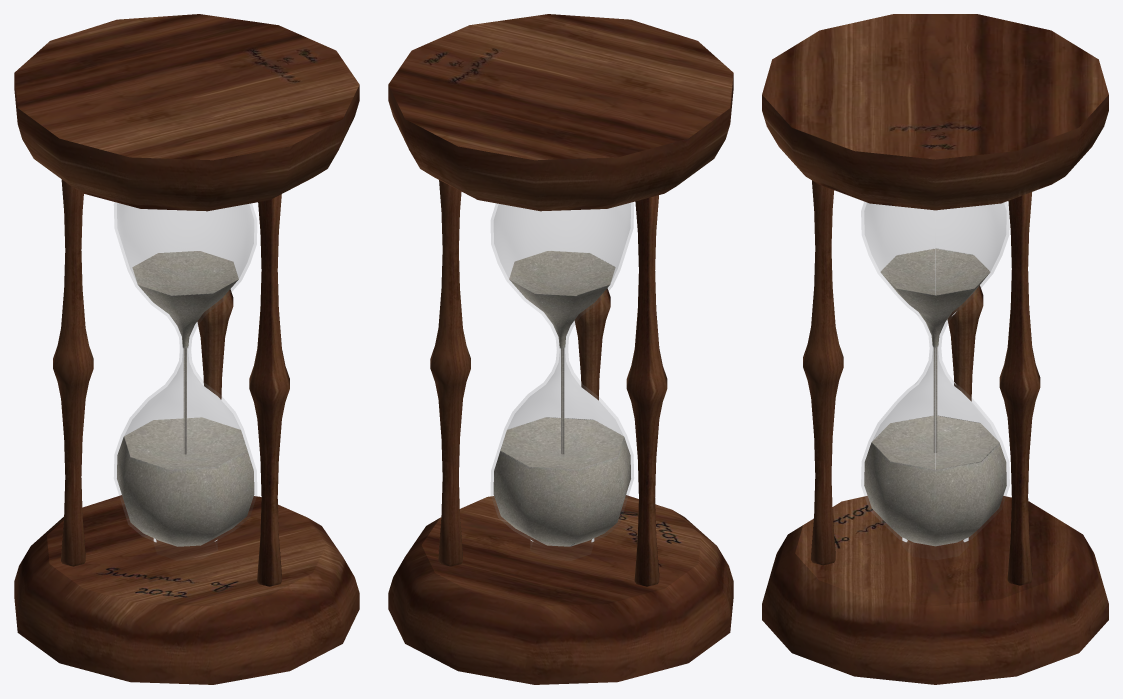
File: sf-hourglass.glb
3 views of the same model, side by side, from view 1: azimuth 30°, elevation 25°; view 2: azimuth 150°, elevation 25°; view 3: azimuth 270°, elevation 25° (orthographic).
Parts seen in each view (by area): view 1: defaultMaterial; view 2: defaultMaterial; view 3: defaultMaterial.
Boxes of the visible parts, bbox=[...] form: defaultMaterial: bbox=[14, 14, 359, 684]; defaultMaterial: bbox=[388, 14, 733, 684]; defaultMaterial: bbox=[762, 14, 1108, 684].
Bounding box in the file's own units: 0.1188 × 0.2 × 0.1197.
1 material, 1 textured.
